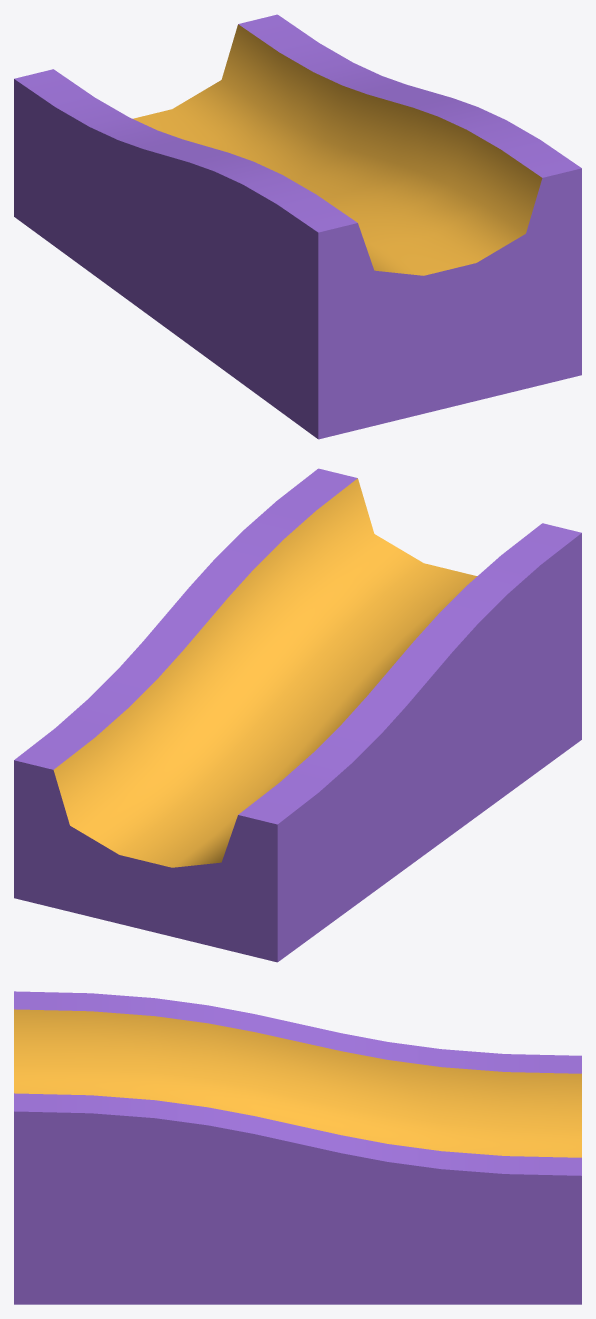
File: kenney-marble-ramp-long-solid-a.glb
The picture shows the model from 3 angles, top to bottom: view 1: azimuth 30°, elevation 25°; view 2: azimuth 150°, elevation 25°; view 3: azimuth 270°, elevation 25°; orthographic projection. The views are drawn at different scales.
Parts seen in each view (by area): view 1: ramp-long-solid-a; view 2: ramp-long-solid-a; view 3: ramp-long-solid-a.
Part boxes in pixels (bbox=[...]): ramp-long-solid-a: bbox=[14, 14, 581, 439]; ramp-long-solid-a: bbox=[14, 468, 581, 962]; ramp-long-solid-a: bbox=[14, 991, 581, 1304].
Size of the model in its own units: 1 by 0.7501 by 2.
Materials: 1 (1 with a texture image).
